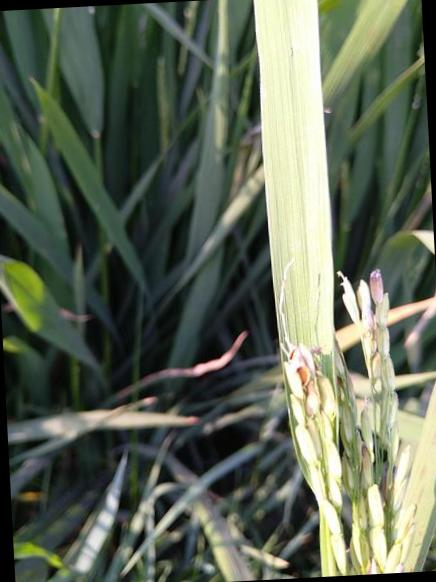Panicle Blight: (281, 341, 321, 416), (361, 309, 382, 379), (368, 269, 384, 308), (361, 443, 373, 485), (367, 559, 380, 575), (393, 563, 404, 573)
